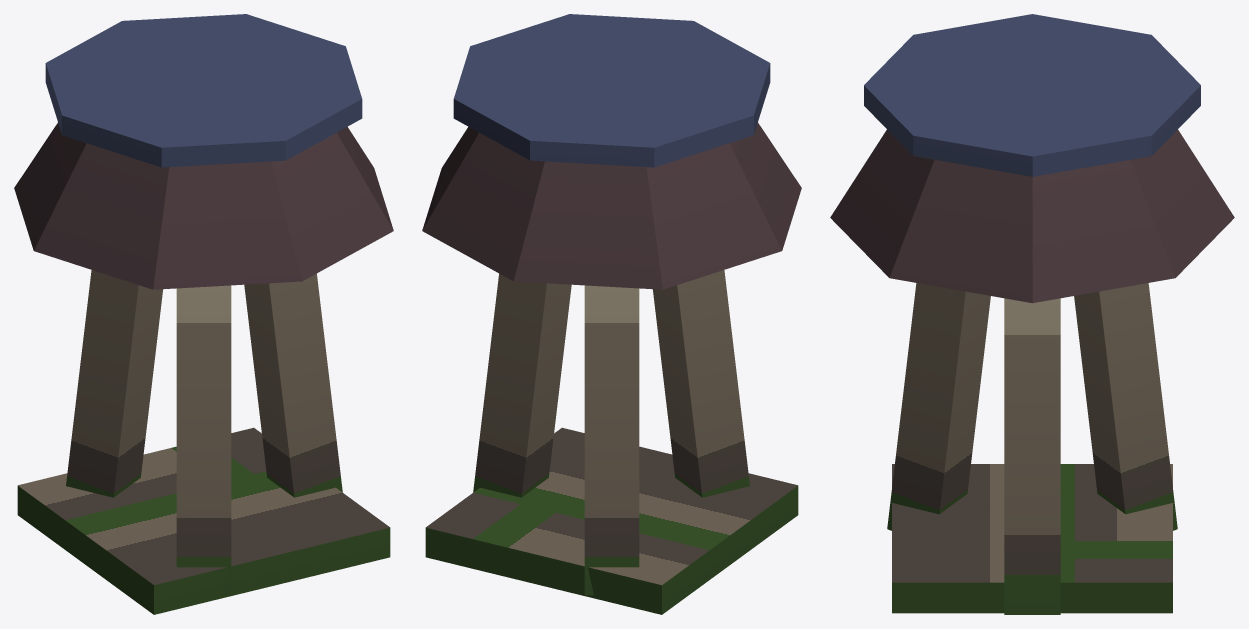
The model's file is brazier.glb.
The picture shows the model from 3 angles, left to right: view 1: azimuth 30°, elevation 25°; view 2: azimuth 150°, elevation 25°; view 3: azimuth 270°, elevation 25°; orthographic projection. The views are drawn at different scales.
Visible parts, largest first — view 1: brazier; view 2: brazier; view 3: brazier.
Boxes of the visible parts, <box> form: brazier: <box>14,14,393,614</box>; brazier: <box>422,14,801,614</box>; brazier: <box>830,14,1234,614</box>.
Size of the model in its own units: 0.72 by 0.926 by 0.72.
Materials: 2 (1 with a texture image).
